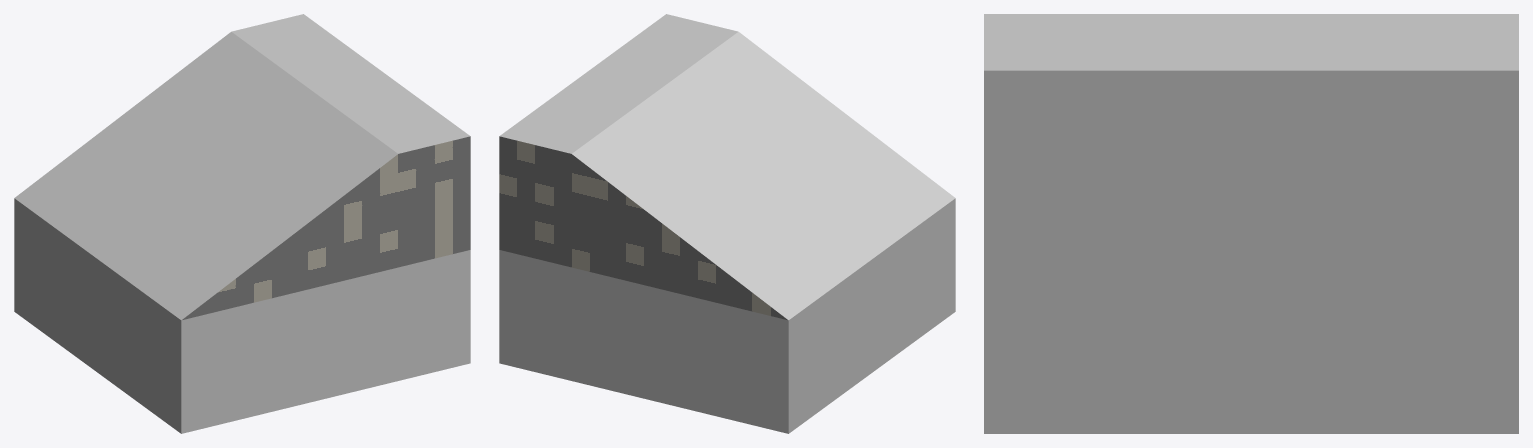
File: slope50_shave2_base6.obj
3 renders of one model, left to right at view 1: azimuth 30°, elevation 25°; view 2: azimuth 150°, elevation 25°; view 3: azimuth 270°, elevation 25°, orthographic. The views are drawn at different scales.
Bounding box in the file's own units: 1 × 0.75 × 1.
